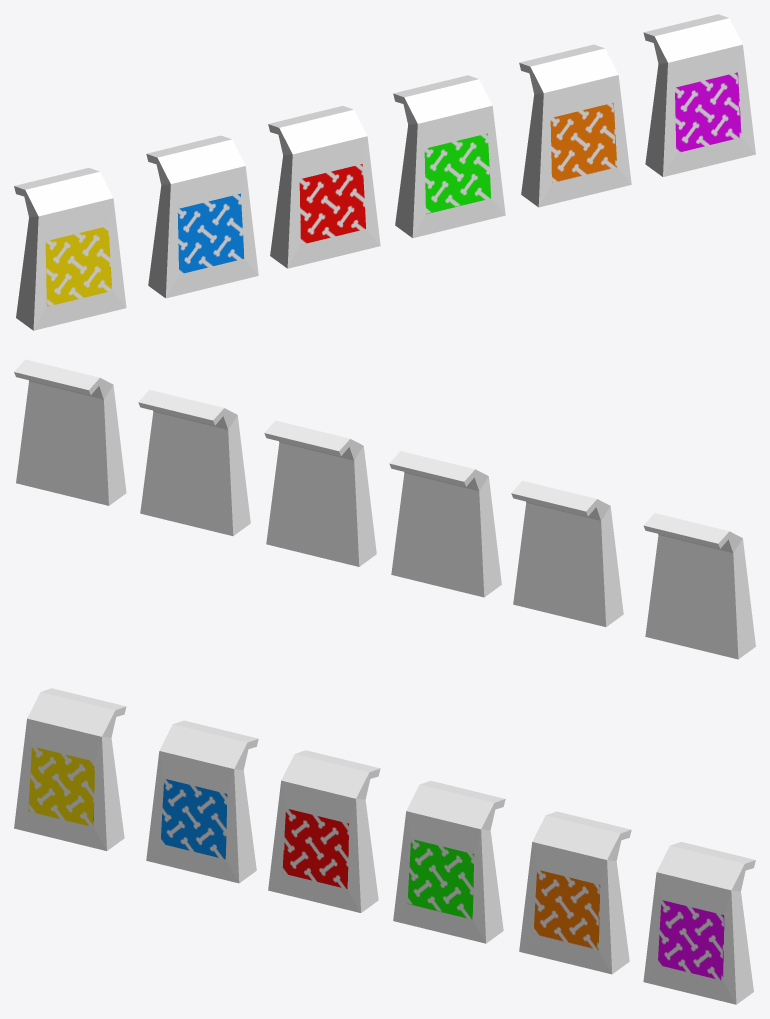
File: foodpack.fbx
3 views of the same model, one above another, from view 1: azimuth 30°, elevation 25°; view 2: azimuth 150°, elevation 25°; view 3: azimuth 330°, elevation 25° (orthographic).
Parts seen in each view (by area): view 1: Foodpack_orange, Foodpack_purple, Foodpack_blue, Foodpack_red, Foodpack_green, Foodpack_yellow; view 2: Foodpack_orange, Foodpack_purple, Foodpack_blue, Foodpack_green, Foodpack_yellow, Foodpack_red; view 3: Foodpack_red, Foodpack_yellow, Foodpack_blue, Foodpack_green, Foodpack_orange, Foodpack_purple.
Boxes of the visible parts, x1,y1,x2,y2 form: Foodpack_orange: (519,44,631,207); Foodpack_purple: (643,14,755,176); Foodpack_blue: (146,135,258,298); Foodpack_red: (268,106,380,268); Foodpack_green: (393,75,505,238); Foodpack_yellow: (14,168,126,330); Foodpack_orange: (138,389,250,535); Foodpack_purple: (14,359,126,505); Foodpack_blue: (511,481,623,626); Foodpack_green: (264,420,376,566); Foodpack_yellow: (643,513,755,659); Foodpack_red: (389,451,501,597); Foodpack_red: (268,750,380,912); Foodpack_yellow: (14,688,126,850); Foodpack_blue: (146,720,258,883); Foodpack_green: (393,780,505,943); Foodpack_orange: (519,811,631,974); Foodpack_purple: (643,842,755,1004).
Bounding box in the file's own units: 624 × 104 × 42.86.
Materials: 1 (1 with a texture image).
